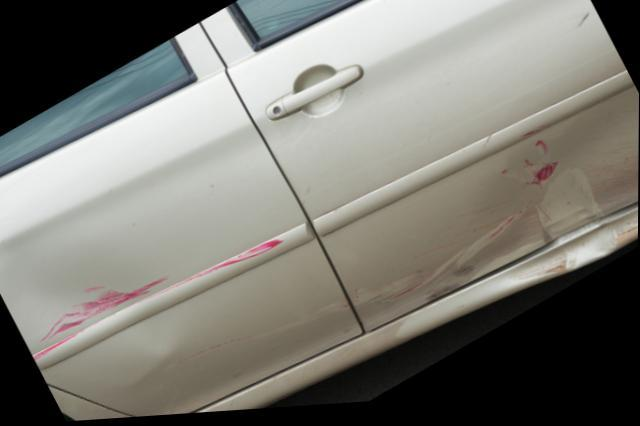dent: (479, 74, 639, 270), (8, 237, 168, 360), (514, 233, 619, 288)
scratch: (352, 228, 487, 317), (169, 242, 285, 293)
